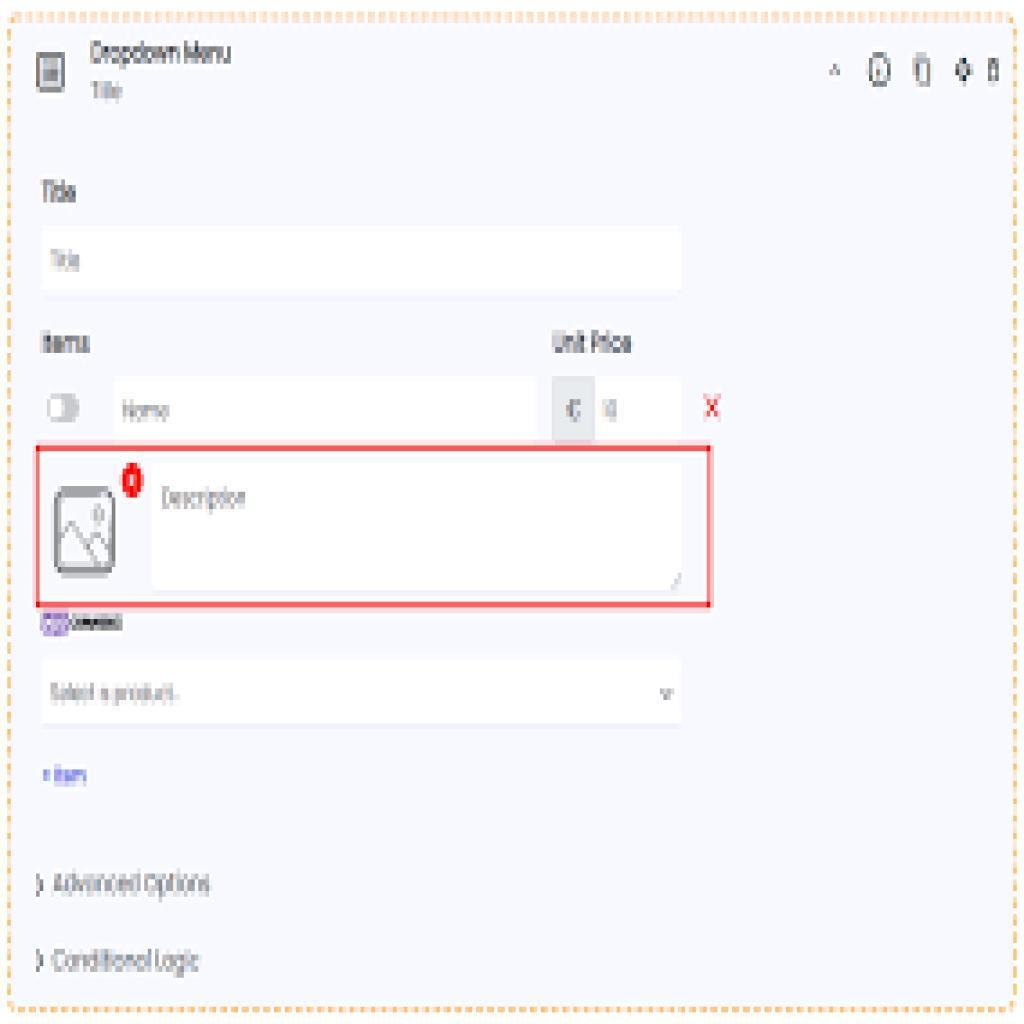dropdown: (43, 659, 684, 725)
icon: (31, 44, 77, 101), (908, 49, 936, 94), (868, 49, 894, 90), (953, 52, 977, 90), (700, 392, 727, 424), (30, 870, 51, 906), (986, 50, 1004, 91), (824, 56, 847, 83), (30, 947, 51, 975)
input: (43, 229, 681, 295), (115, 378, 538, 443), (555, 378, 682, 442)
switch: (48, 394, 82, 424)
